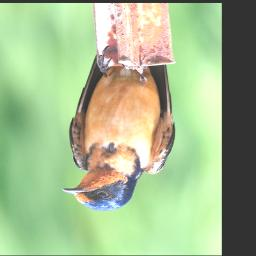Swallow: (62, 43, 176, 212)
